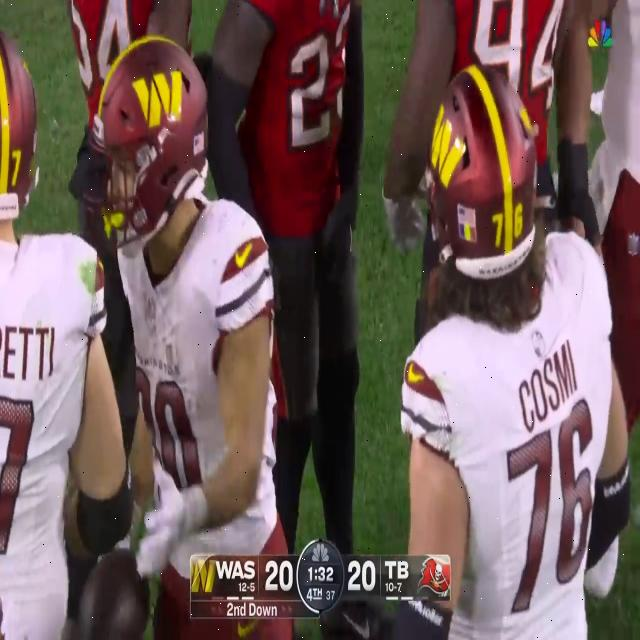Player: (406, 66, 630, 548), (90, 34, 282, 550), (216, 0, 366, 523), (0, 23, 118, 640)
